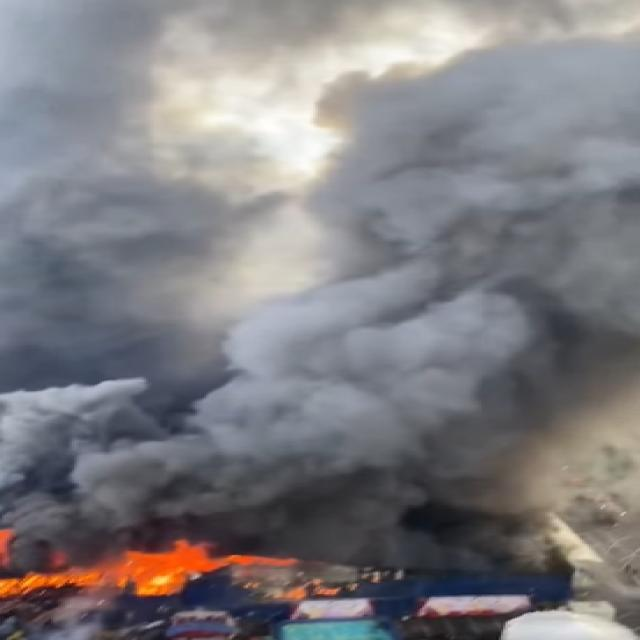Fire: (0, 532, 377, 598)
Smoke: (0, 26, 640, 571), (0, 0, 240, 398)
